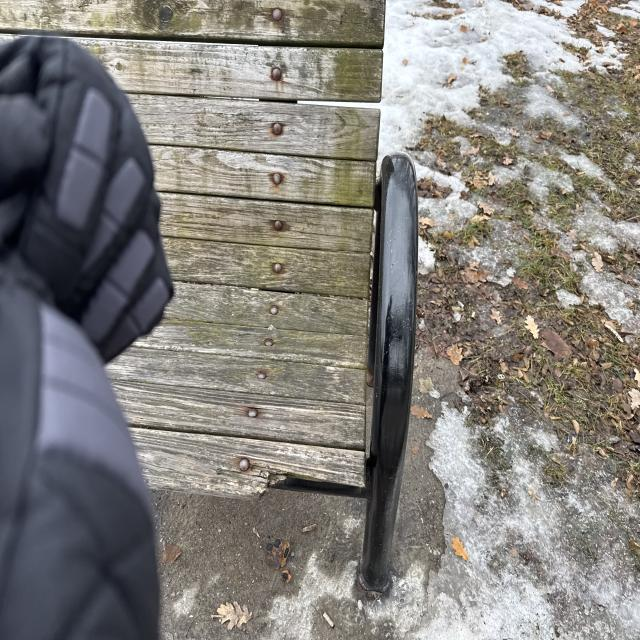Bench: (154, 0, 421, 594)
